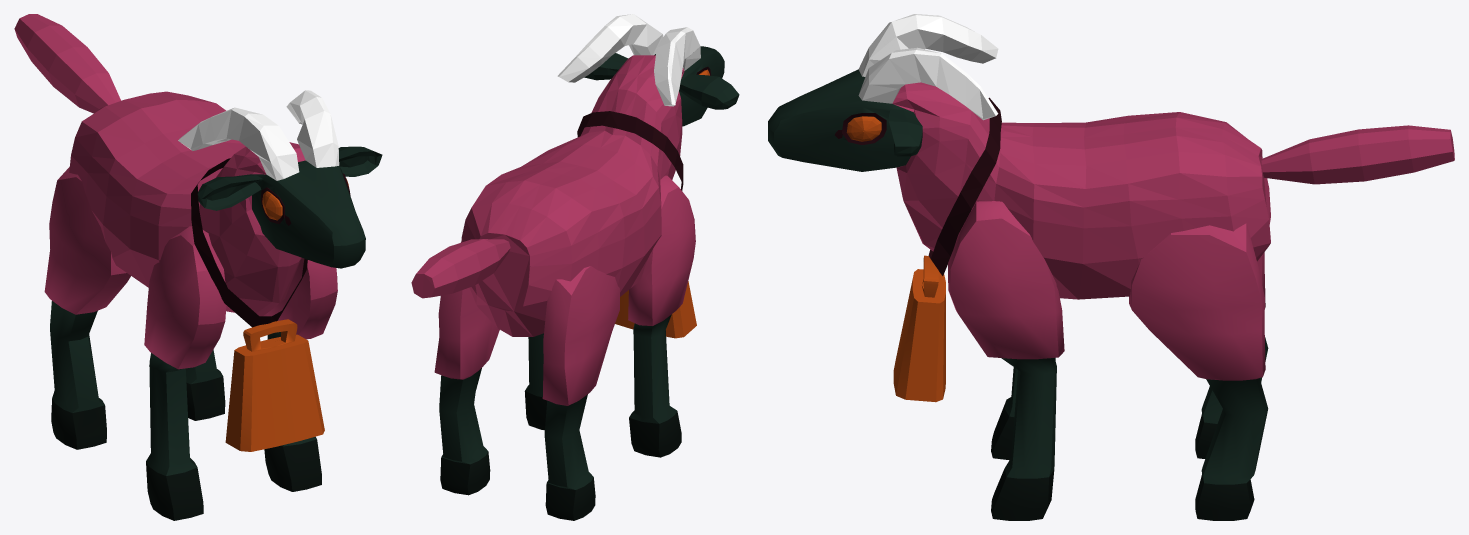
File: sheep.fbx
The picture shows the model from 3 angles, left to right: view 1: azimuth 30°, elevation 25°; view 2: azimuth 150°, elevation 25°; view 3: azimuth 270°, elevation 25°; orthographic projection. The views are drawn at different scales.
Parts seen in each view (by area): view 1: Box002; view 2: Box002; view 3: Box002.
Boxes of the visible parts, <box> form: Box002: <box>14,14,382,520</box>; Box002: <box>411,14,739,520</box>; Box002: <box>768,14,1454,520</box>.
Bounding box in the file's own units: 1564 × 3514 × 4889.
